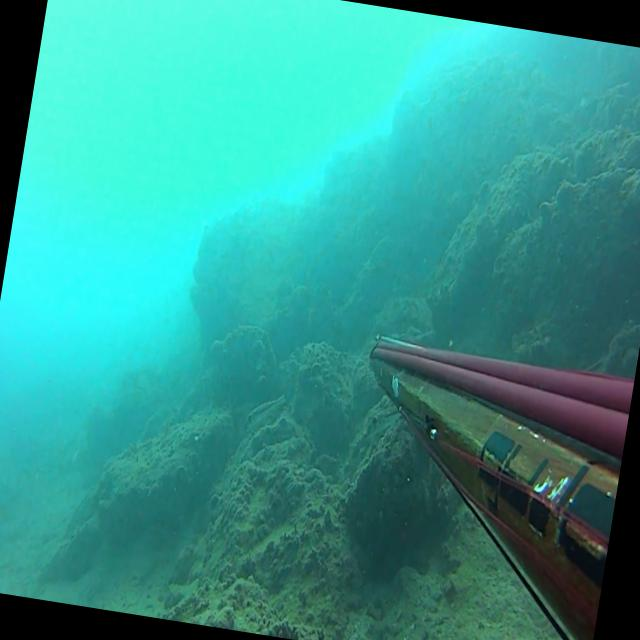Balon Baligi: (242, 388, 286, 434)
